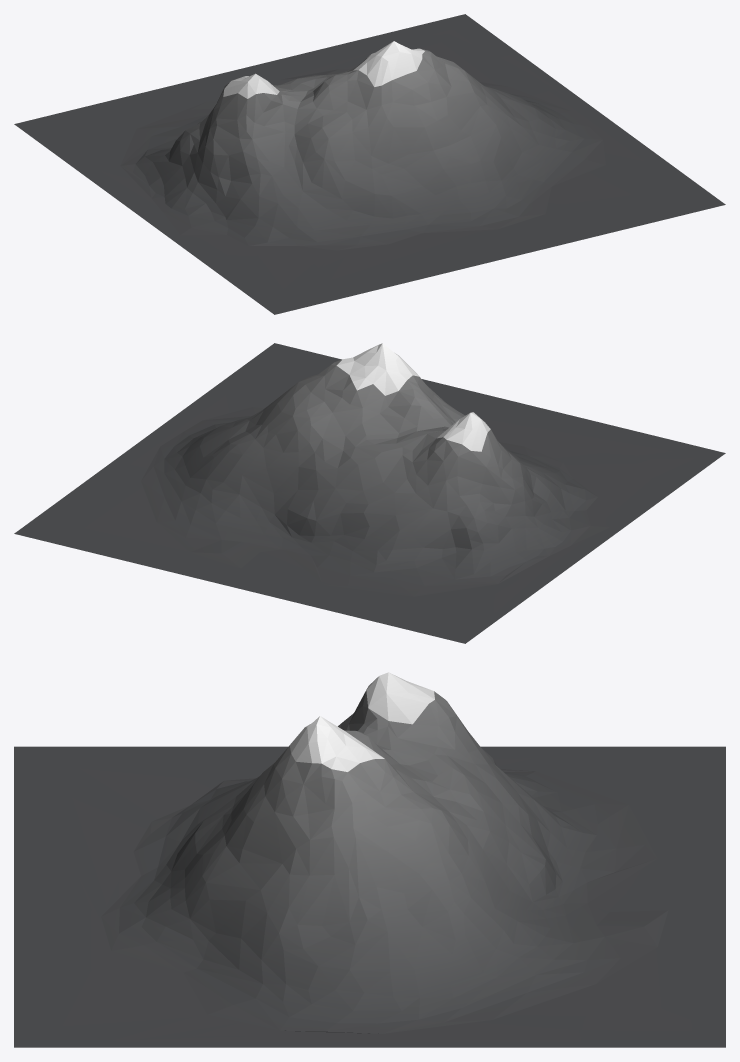
Rendered from Mountains_03.fbx.
3 views of the same model, one above another, from view 1: azimuth 30°, elevation 25°; view 2: azimuth 150°, elevation 25°; view 3: azimuth 270°, elevation 25° (orthographic). The views are drawn at different scales.
Parts seen in each view (by area): view 1: Mountains_03; view 2: Mountains_03; view 3: Mountains_03.
Part boxes in pixels (<box>): Mountains_03: <box>14,14,725,314</box>; Mountains_03: <box>14,343,725,643</box>; Mountains_03: <box>14,672,725,1047</box>.
Bounding box in the file's own units: 25600 × 7343 × 25600.
